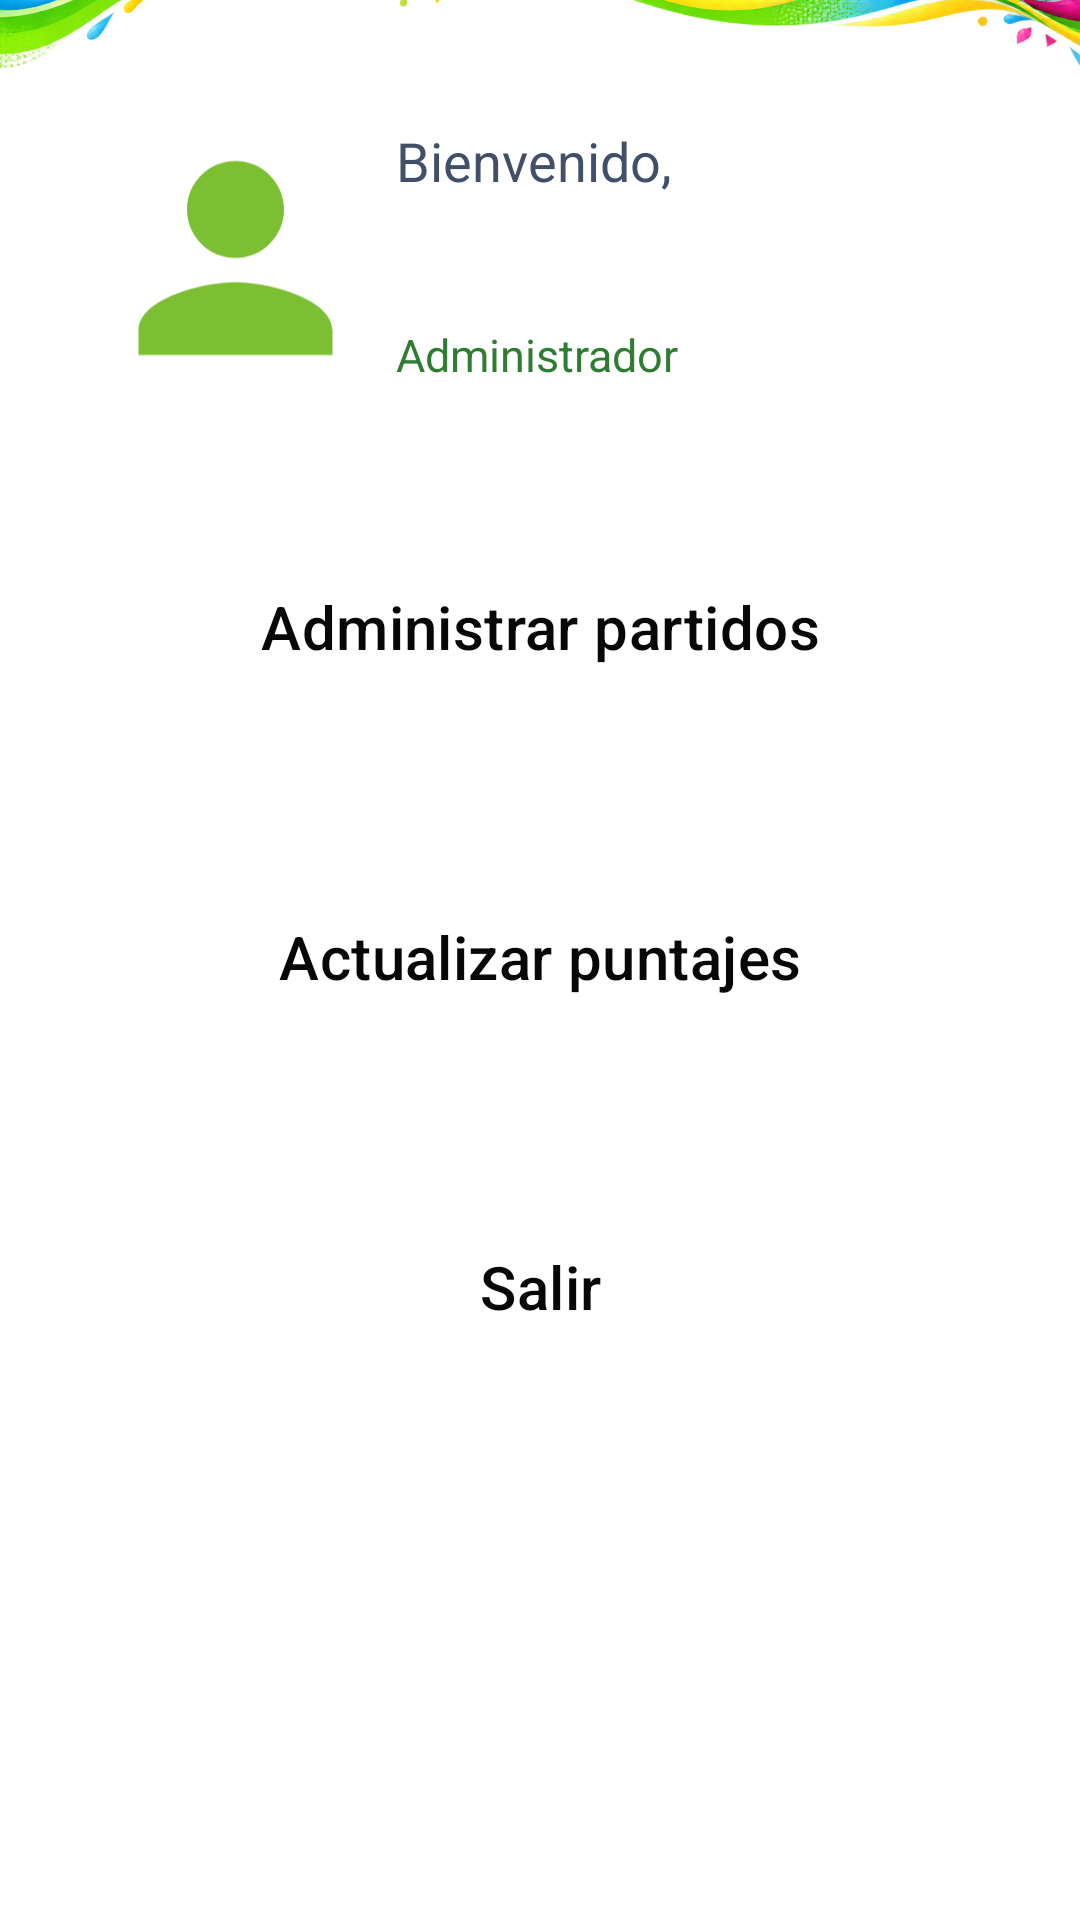

Locate icon controls on the screen. Image size 1080w x 1920h, boxes as (x1, y1, x2, y2).
person: (138, 160, 333, 356)
